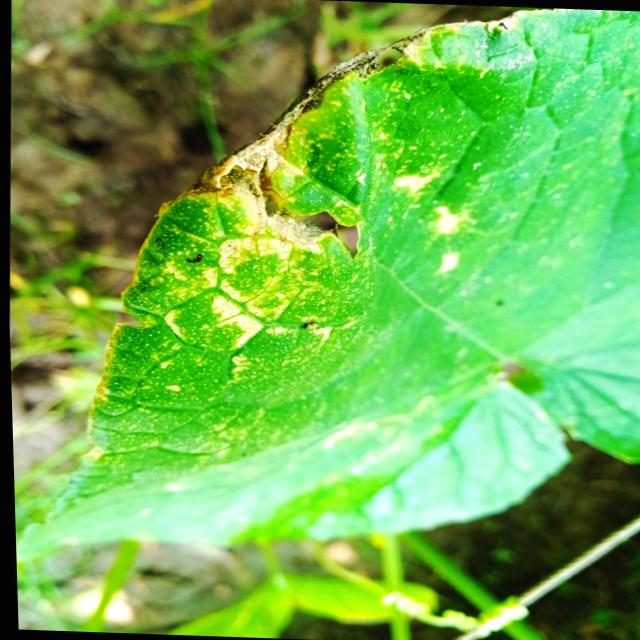Gummy-Stem-Blight: (180, 44, 383, 254)
